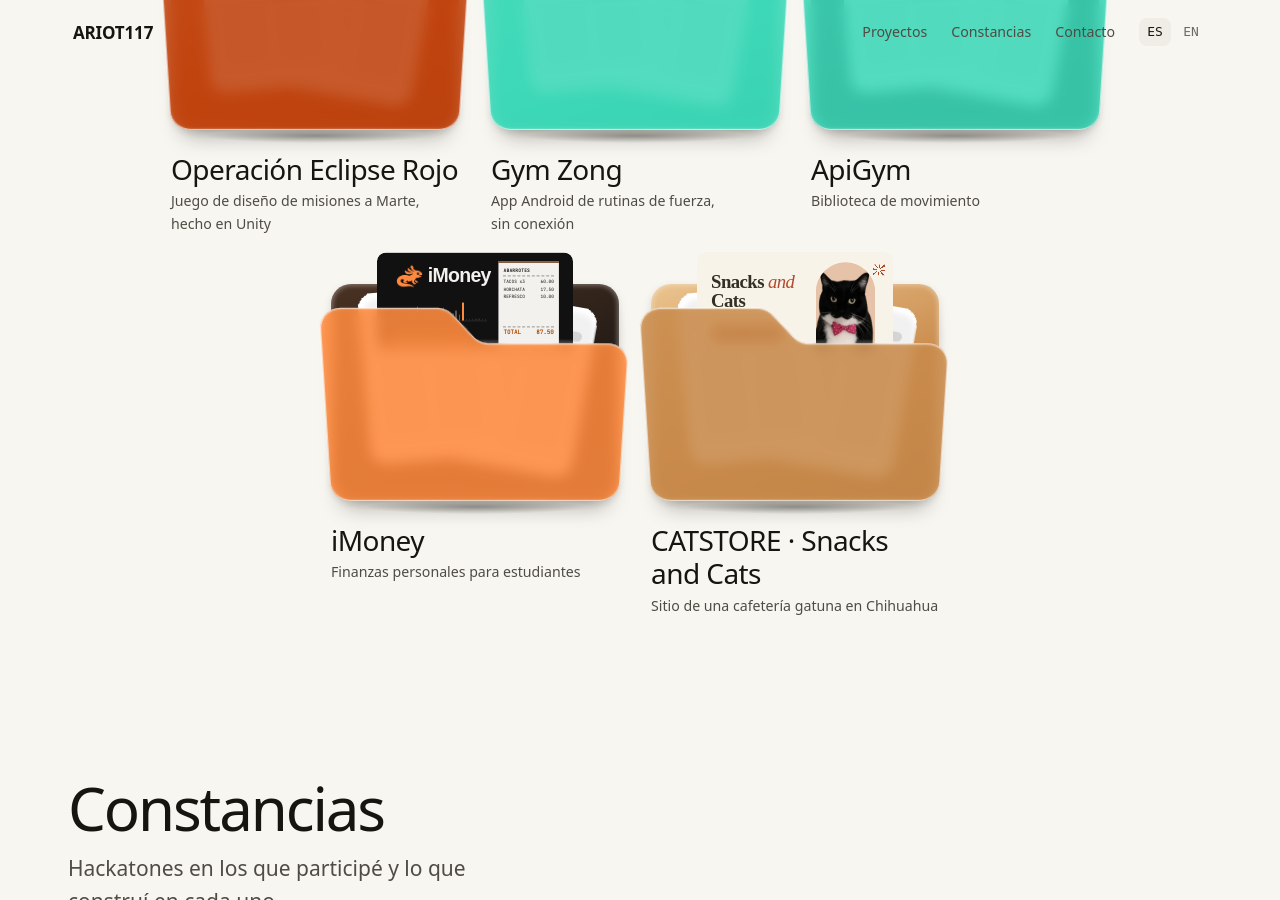
Test: carpetas y vista de proyecto › Escape cierra la vista
This screenshot has width=1280, height=900.
(page scrolled)
Step 1. Click the link with aria-label "Abrir CATSTORE · Snacks and Cats" → [795, 450], box [651,284,939,617]
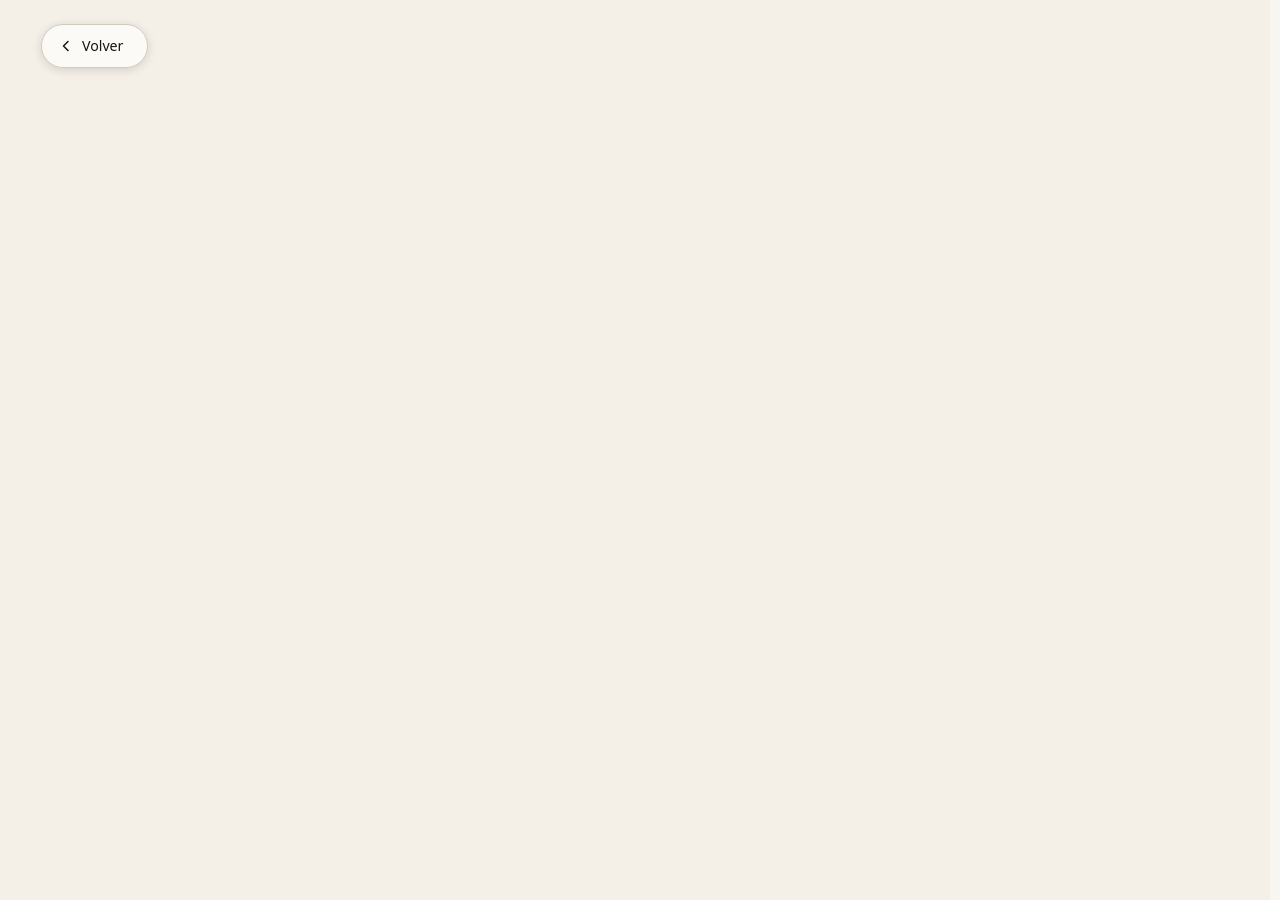
expect the dialog is shown: met
Step 2. Press Escape
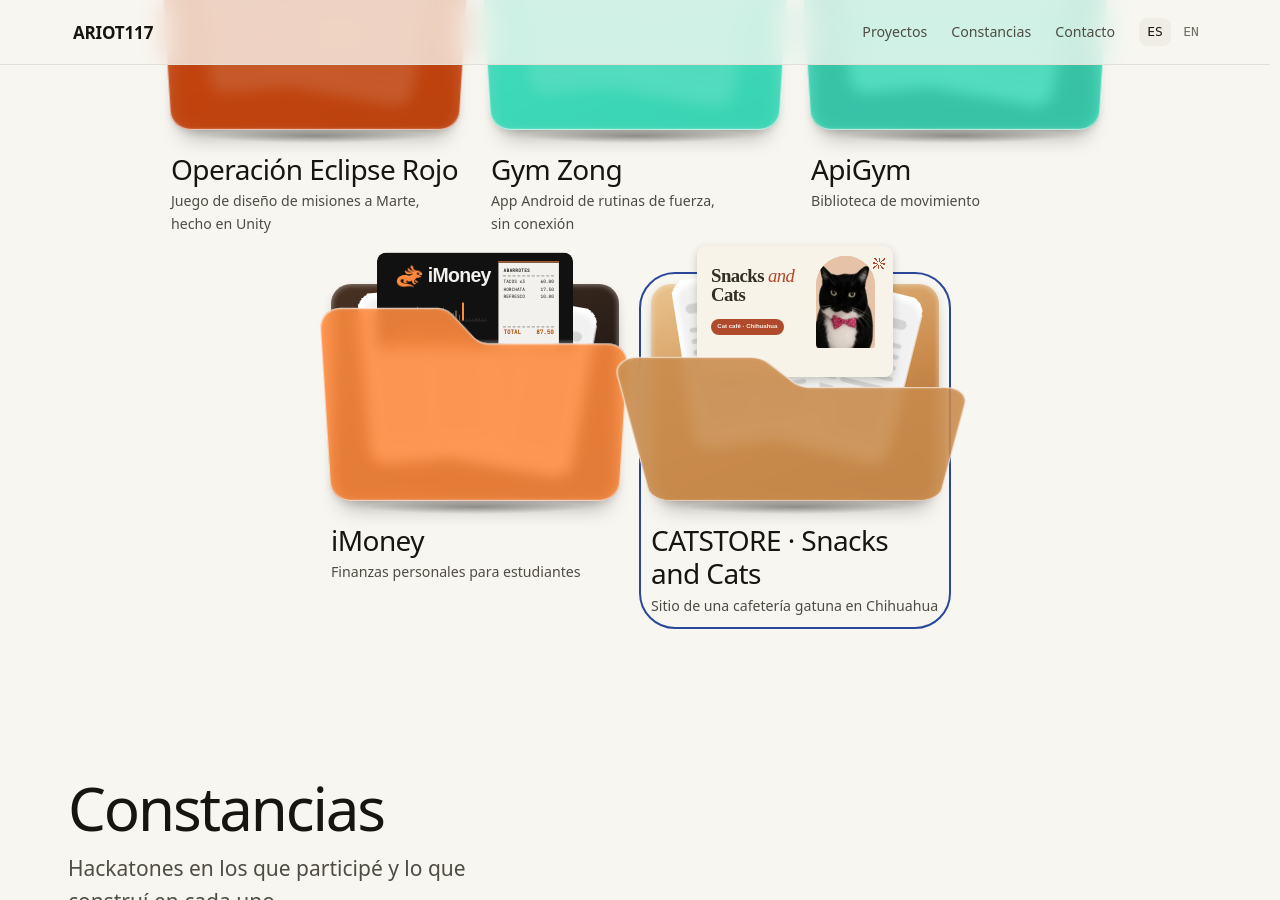
expect the dialog is gone: met
